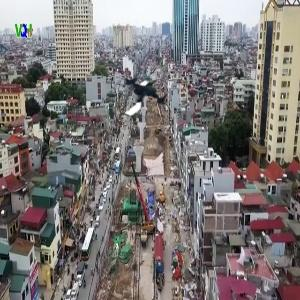drone: (114, 67, 172, 125)
